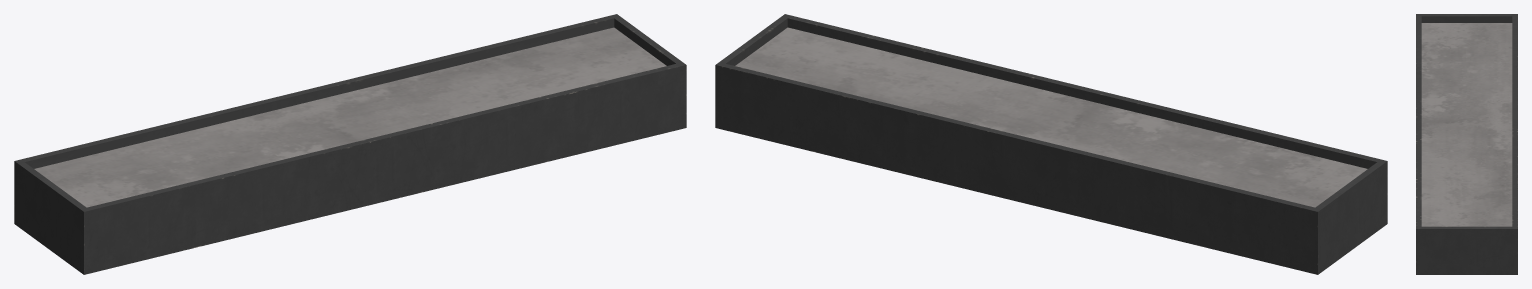
The model's file is SM06_Building_Canopy_03.fbx.
3 views of the same model, side by side, from view 1: azimuth 30°, elevation 25°; view 2: azimuth 150°, elevation 25°; view 3: azimuth 270°, elevation 25° (orthographic). The views are drawn at different scales.
Visible parts, largest first — view 1: SM06_Building_Canopy_03; view 2: SM06_Building_Canopy_03; view 3: SM06_Building_Canopy_03.
Boxes of the visible parts, <box> form: SM06_Building_Canopy_03: <box>14,14,686,274</box>; SM06_Building_Canopy_03: <box>715,14,1387,274</box>; SM06_Building_Canopy_03: <box>1416,14,1517,274</box>.
Size of the model in its own units: 10 by 0.9999 by 2.
